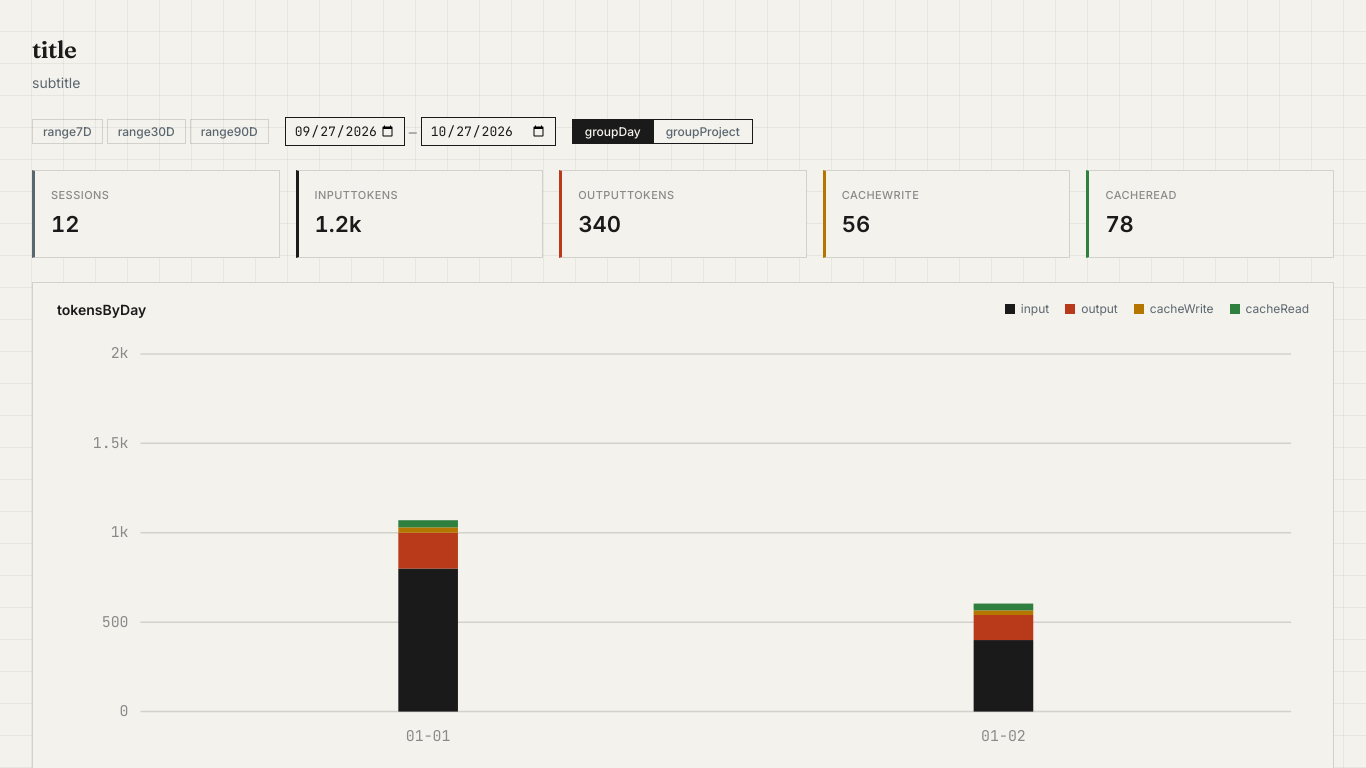
UsageView › switches to project grouping and refetches
This screenshot has width=1366, height=768.
Click the button with test id "usage-group-project" at [702, 132], box 653,120 -> 752,143
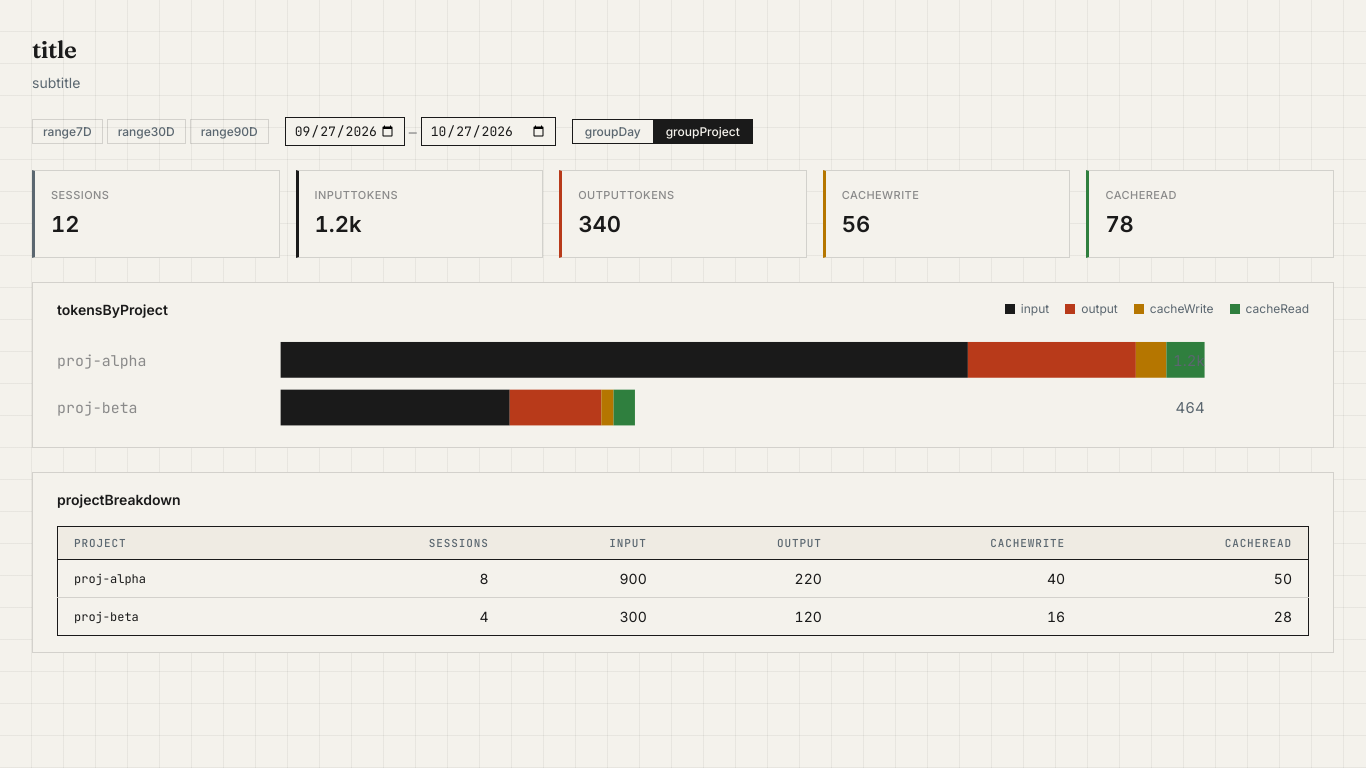
Expected: the table with test id "usage-table" shows "proj-alpha", 74,571 -> 146,587
